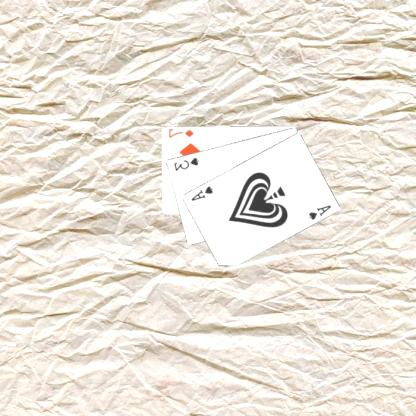3S: (172, 154, 202, 172)
7D: (168, 127, 196, 139)
AS: (307, 202, 334, 221), (190, 183, 216, 202)
